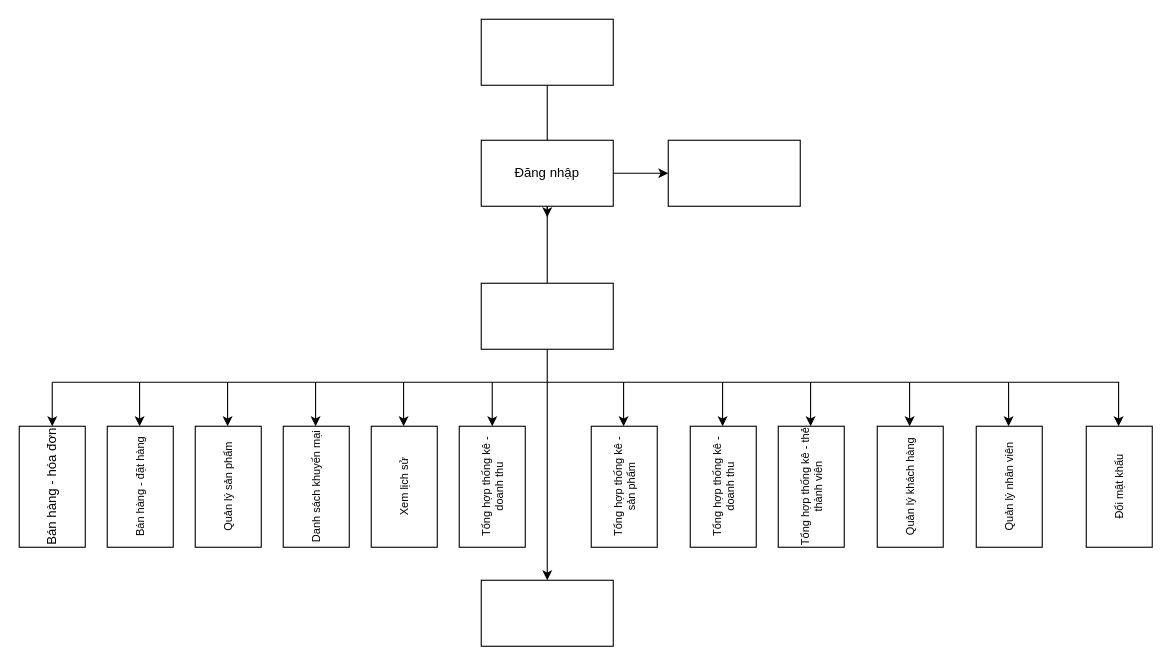
The diagram is 1172 pixels wide and 666 high, and some of its shapes have lost their labels. The box of each missing label's shape, as (x1, y1, x2, y2) in pixels:
Cửa sổ chào: (480, 18, 613, 85)
Quên mật khẩu: (667, 139, 800, 206)
Trang chủ: (480, 282, 613, 349)
Đăng Xuất: (480, 579, 613, 646)
